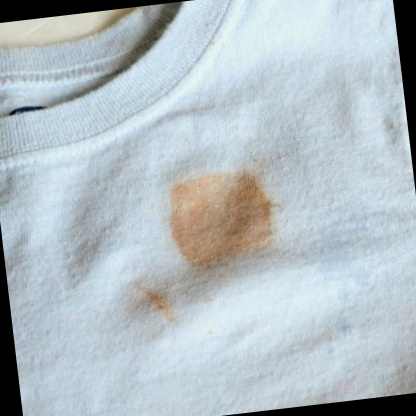kimchi: (162, 168, 293, 276), (128, 271, 177, 333)
